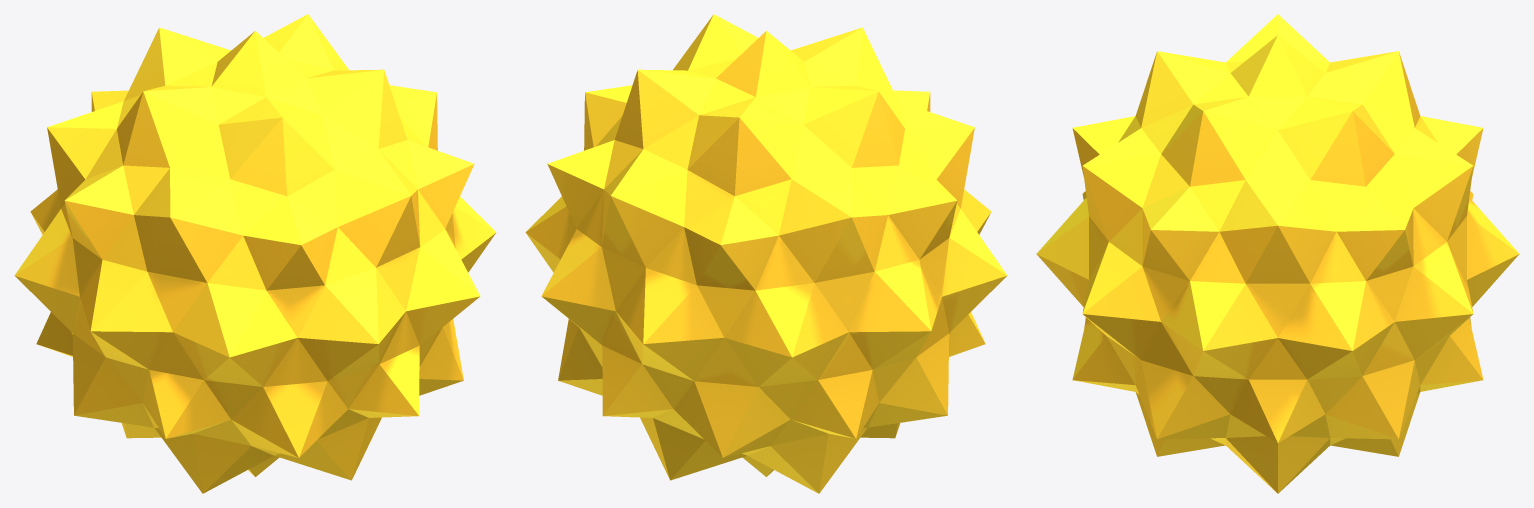
3 renders of one model, left to right at view 1: azimuth 30°, elevation 25°; view 2: azimuth 150°, elevation 25°; view 3: azimuth 270°, elevation 25°, orthographic.
Visible parts, largest first — view 1: sun; view 2: sun; view 3: sun.
Part boxes in pixels (x1,y1,x2,y2): sun: (14,14,496,493); sun: (525,14,1007,493); sun: (1036,14,1519,493).
Size of the model in its own units: 1.23 by 1.29 by 1.29.
Materials: 1 (1 with a texture image).
